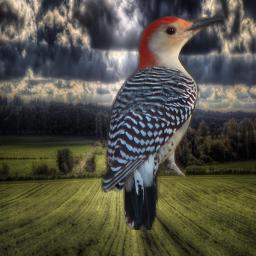Woodpecker: (101, 14, 228, 230)
